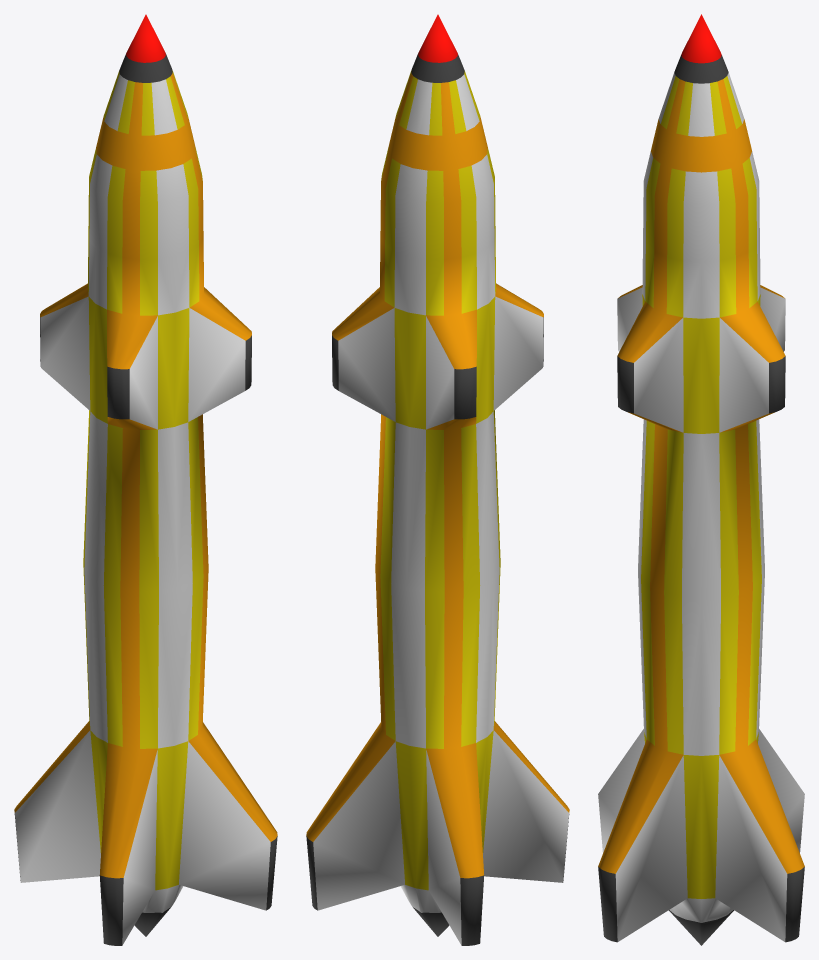
Rendered from MISILE.fbx.
3 renders of one model, left to right at view 1: azimuth 30°, elevation 25°; view 2: azimuth 150°, elevation 25°; view 3: azimuth 270°, elevation 25°, orthographic.
Visible parts, largest first — view 1: Cylinder; view 2: Cylinder; view 3: Cylinder.
Part boxes in pixels (bbox=[...]): Cylinder: bbox=[14, 14, 277, 945]; Cylinder: bbox=[306, 14, 569, 945]; Cylinder: bbox=[598, 14, 804, 945].
Size of the model in its own units: 402 by 1998 by 402.
